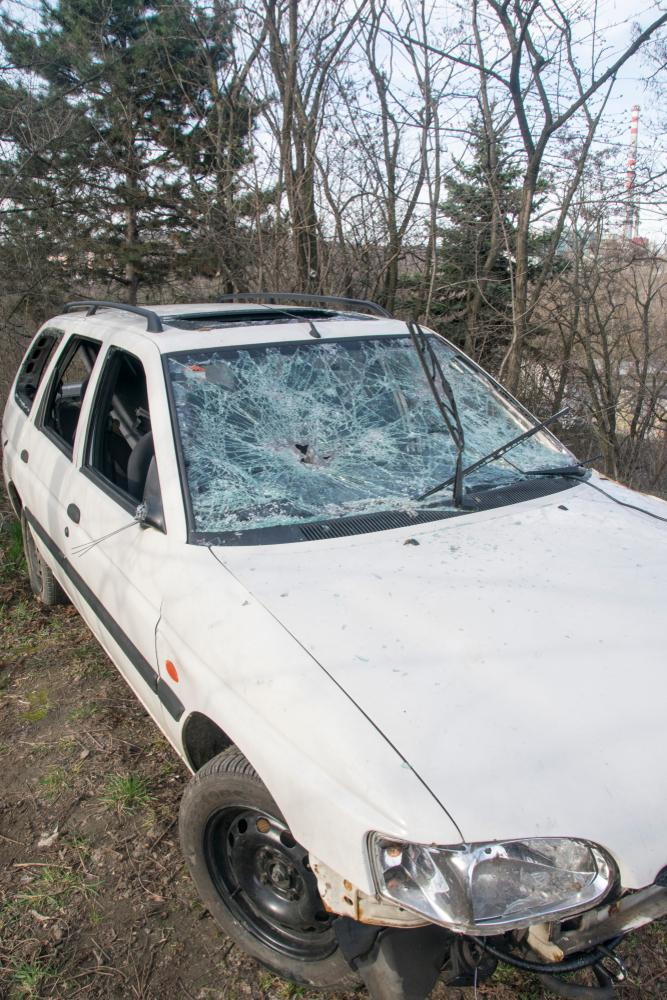glass shatter: (165, 337, 567, 531)
